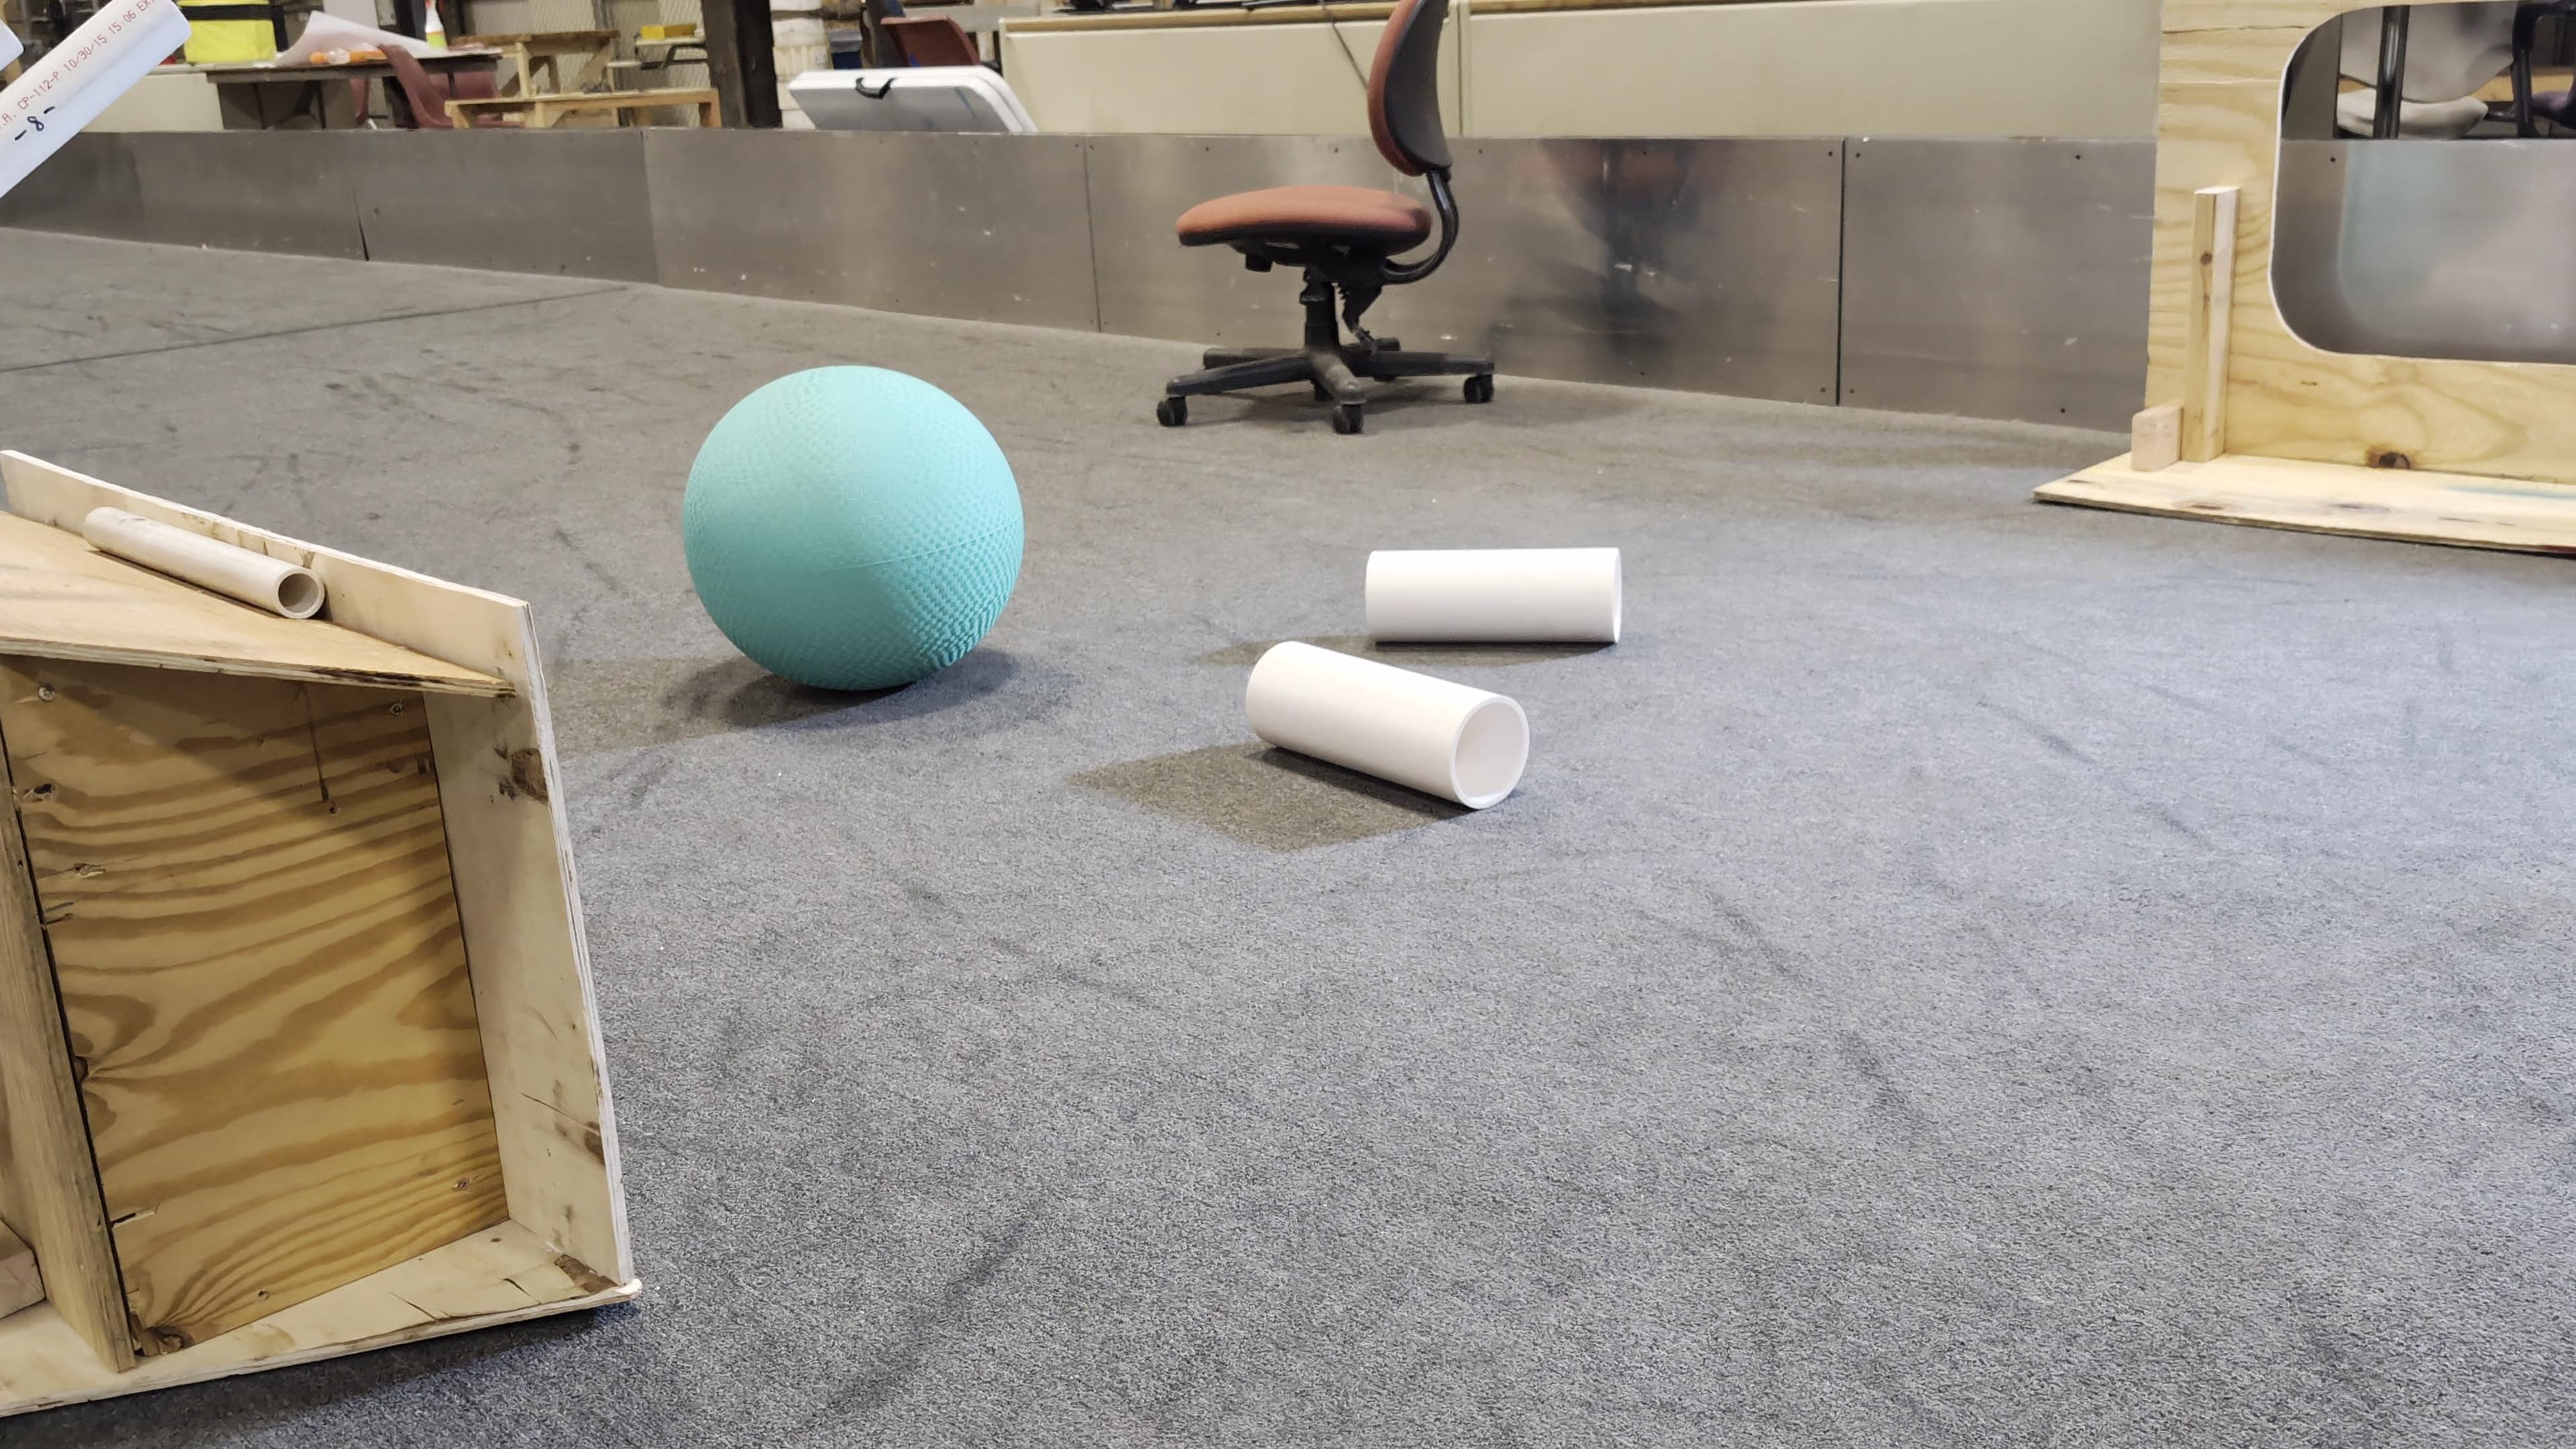coral: (1247, 640, 1530, 810), (1368, 547, 1619, 644)
